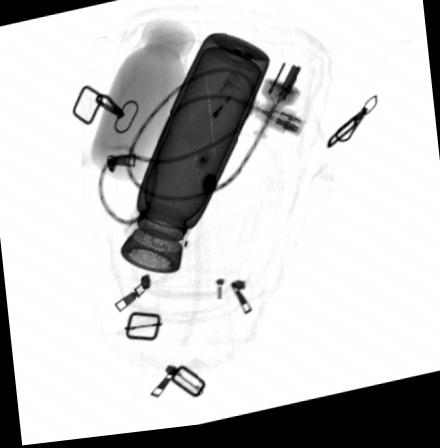Lighter: (182, 75, 249, 157)
